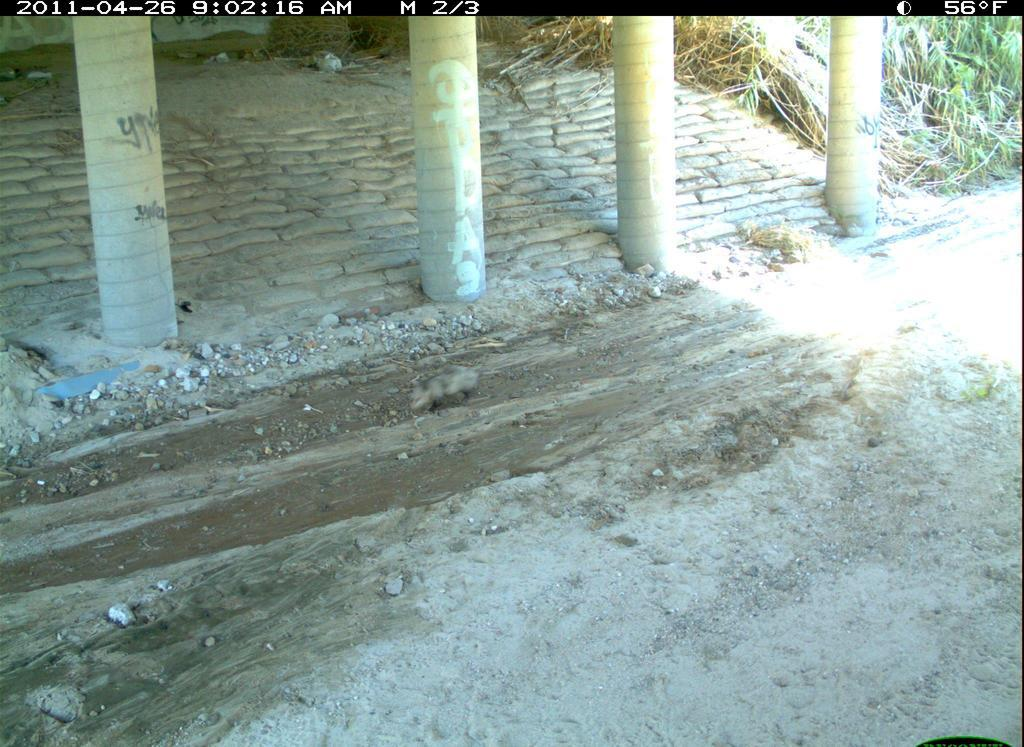opossum: (811, 717, 1018, 747)
